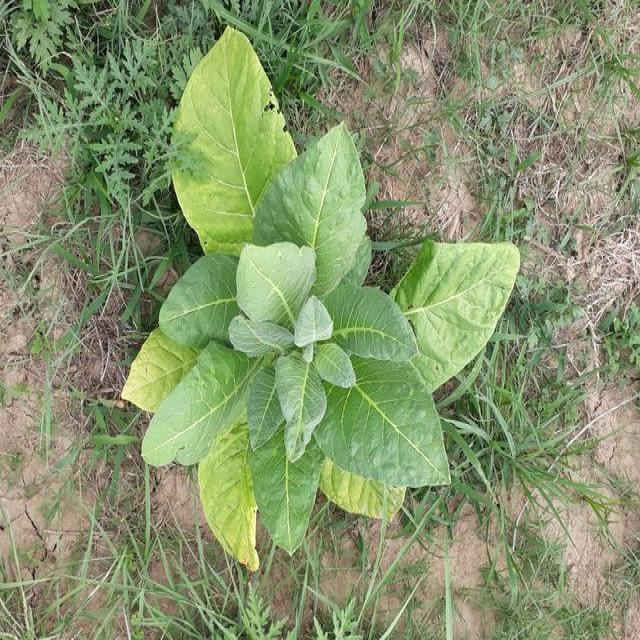crop: (122, 61, 520, 544)
